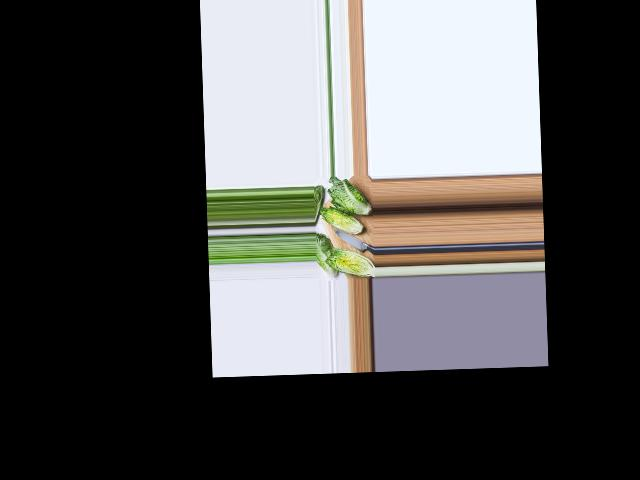lettuce: (317, 233, 337, 276)
